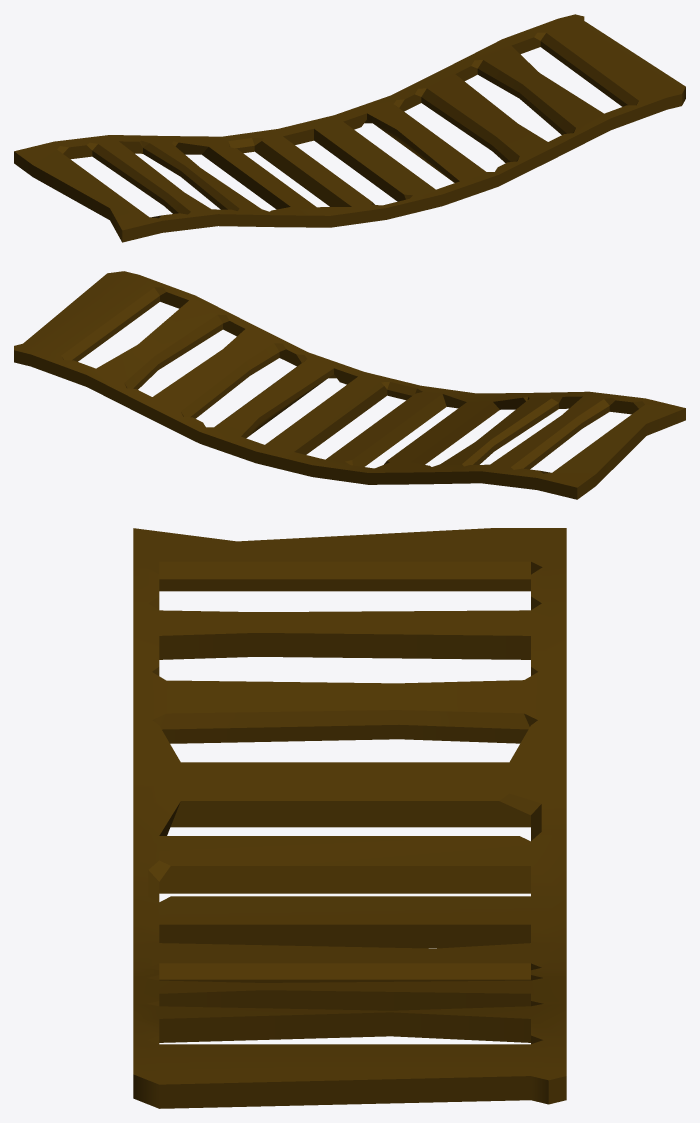
The model's file is Bridge.fbx.
The picture shows the model from 3 angles, top to bottom: view 1: azimuth 30°, elevation 25°; view 2: azimuth 150°, elevation 25°; view 3: azimuth 270°, elevation 25°; orthographic projection. The views are drawn at different scales.
Visible parts, largest first — view 1: MESH_Bridge; view 2: MESH_Bridge; view 3: MESH_Bridge.
Boxes of the visible parts, box(x1,y1,x2,y2) form: MESH_Bridge: box(14, 14, 685, 242); MESH_Bridge: box(14, 271, 685, 499); MESH_Bridge: box(133, 528, 566, 1108).
Size of the model in its own units: 24.74 by 2.23 by 8.13.
